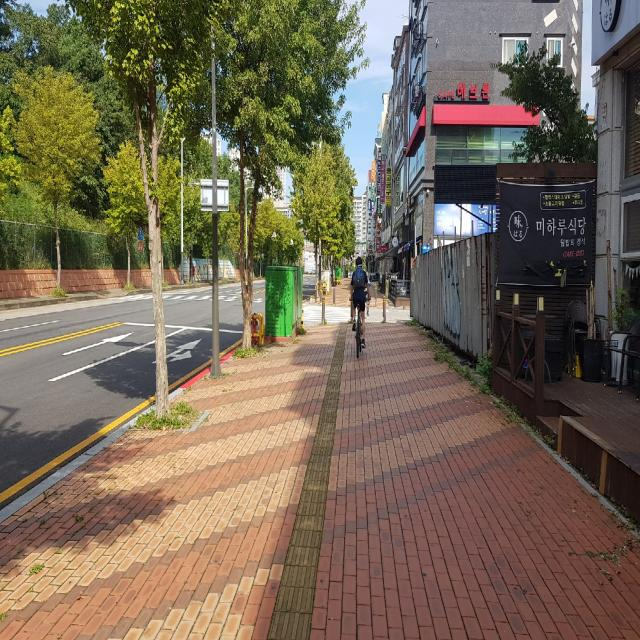횡단보도: (303, 305, 358, 323)
